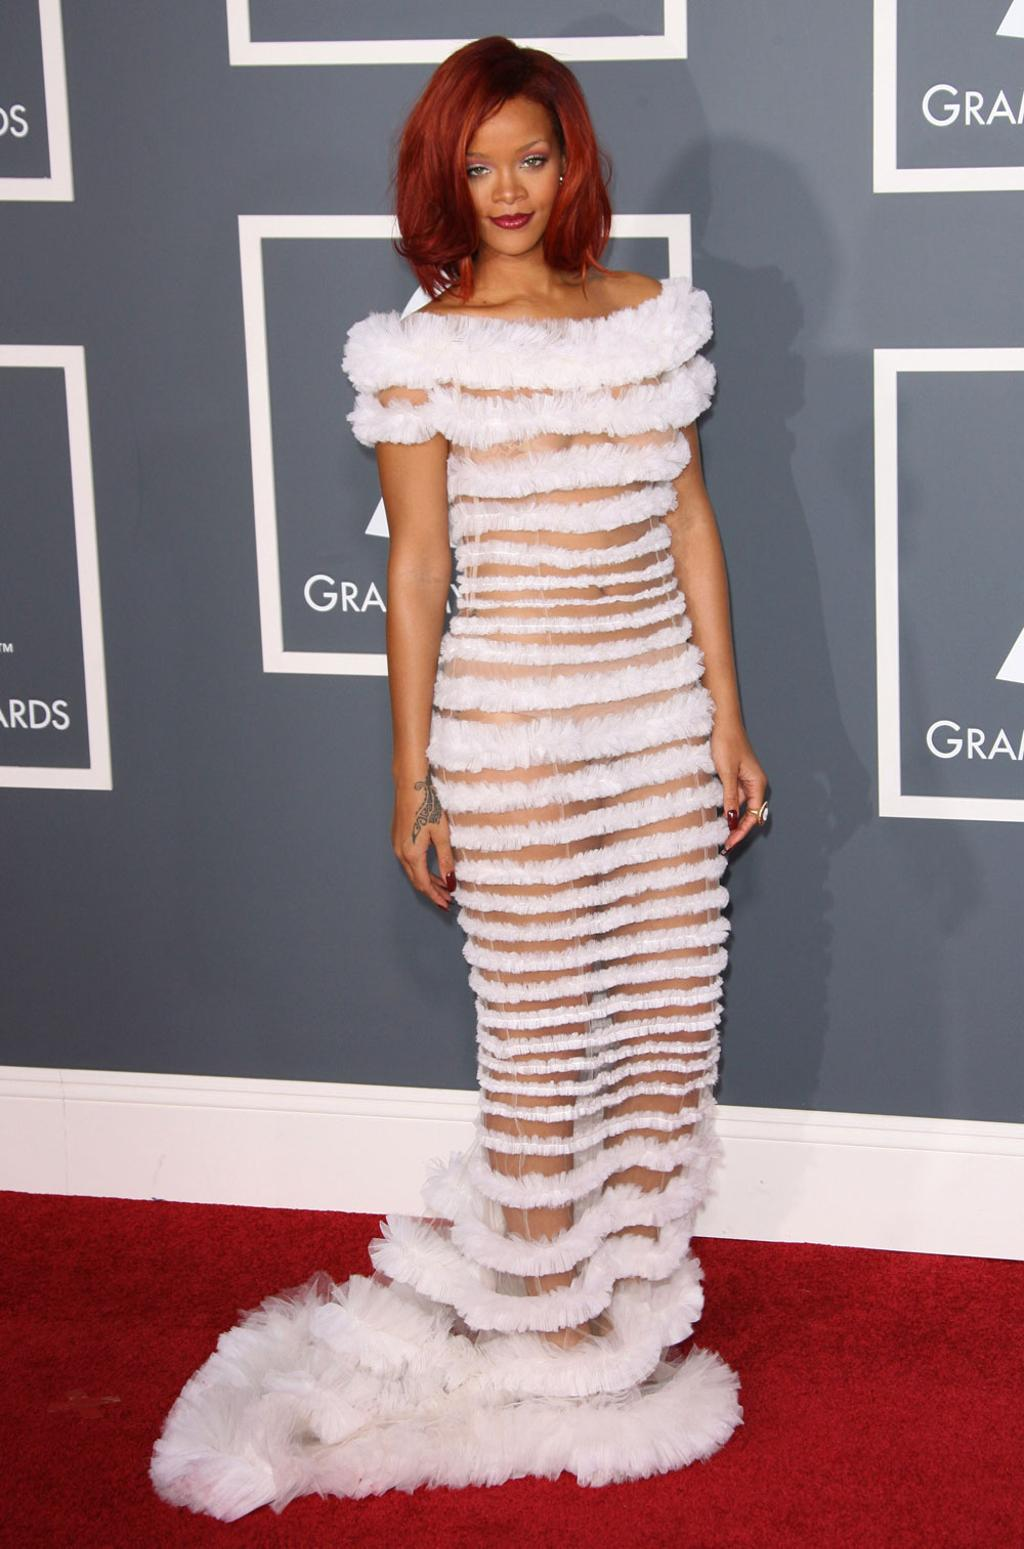face: (451, 92, 569, 255)
